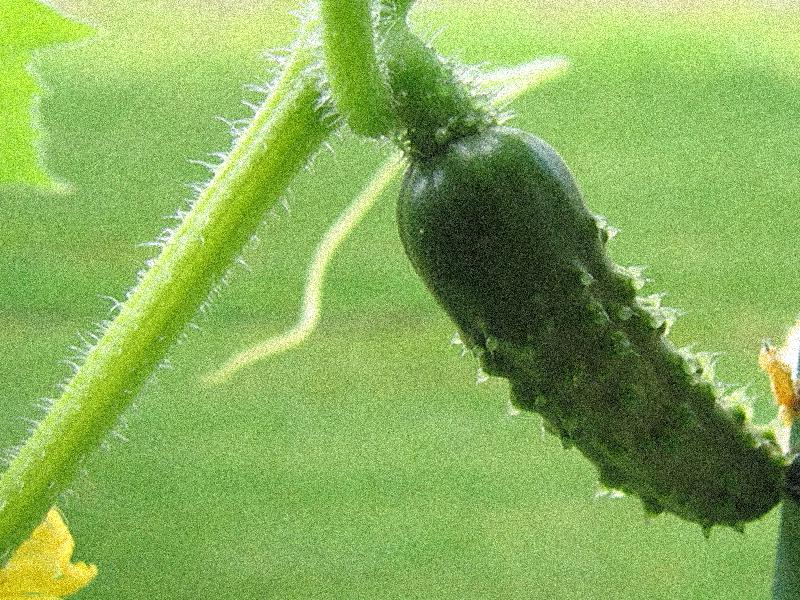Cucumber: (390, 130, 786, 531)
